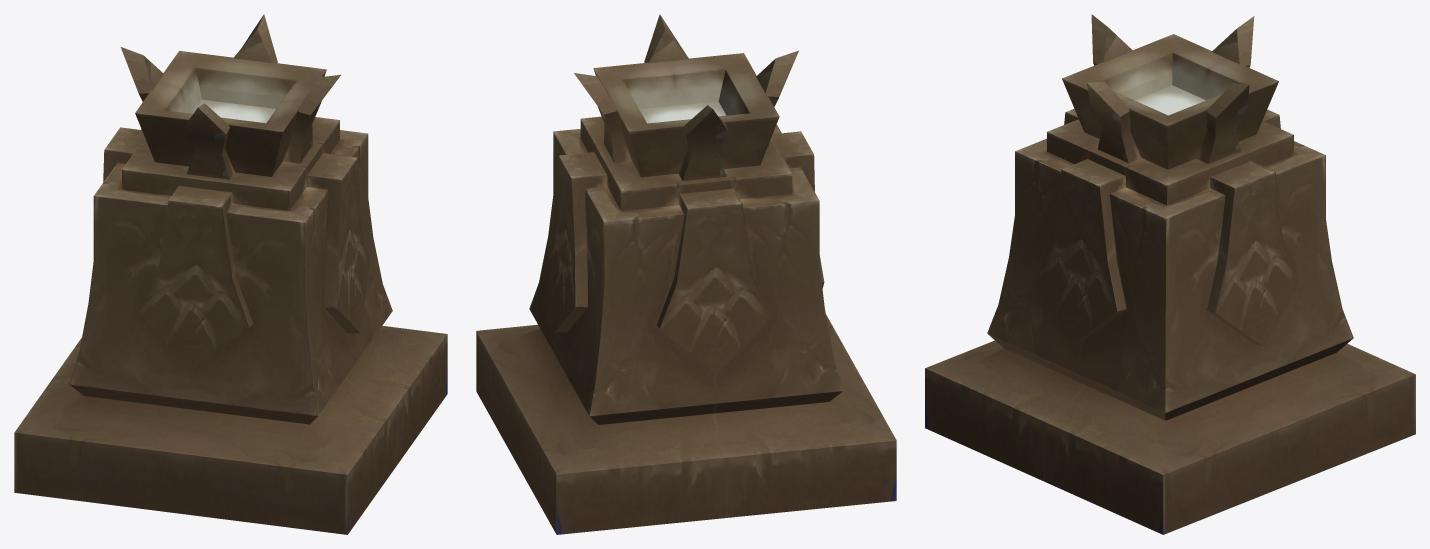
File: Xuanjue_xiaozhu.FBX
The picture shows the model from 3 angles, left to right: view 1: azimuth 30°, elevation 25°; view 2: azimuth 150°, elevation 25°; view 3: azimuth 270°, elevation 25°; orthographic projection.
Visible parts, largest first — view 1: Xuanjue_xiaozhu; view 2: Xuanjue_xiaozhu; view 3: Xuanjue_xiaozhu.
Part boxes in pixels (box(x1,y1,x2,y2)): Xuanjue_xiaozhu: box(14, 14, 447, 534); Xuanjue_xiaozhu: box(476, 14, 896, 534); Xuanjue_xiaozhu: box(925, 14, 1415, 534).
Bounding box in the file's own units: 52.91 × 52.91 × 45.42.
